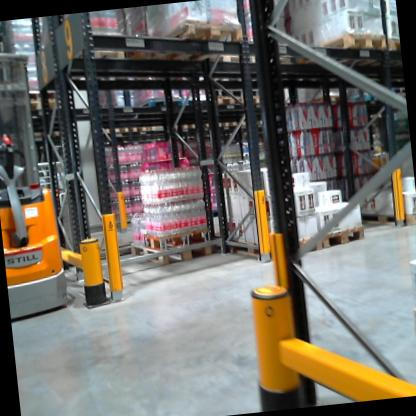pallet: (124, 206, 239, 274), (213, 206, 321, 270), (145, 8, 252, 67), (277, 22, 388, 70), (328, 32, 403, 85), (71, 36, 132, 84), (352, 194, 416, 236), (315, 212, 375, 254), (134, 89, 199, 122), (212, 85, 266, 111), (205, 84, 265, 102), (126, 117, 163, 143), (92, 116, 131, 137), (233, 110, 263, 130), (399, 309, 416, 343), (379, 84, 404, 102), (177, 116, 203, 131)
pallet_truck: (0, 42, 86, 324)
